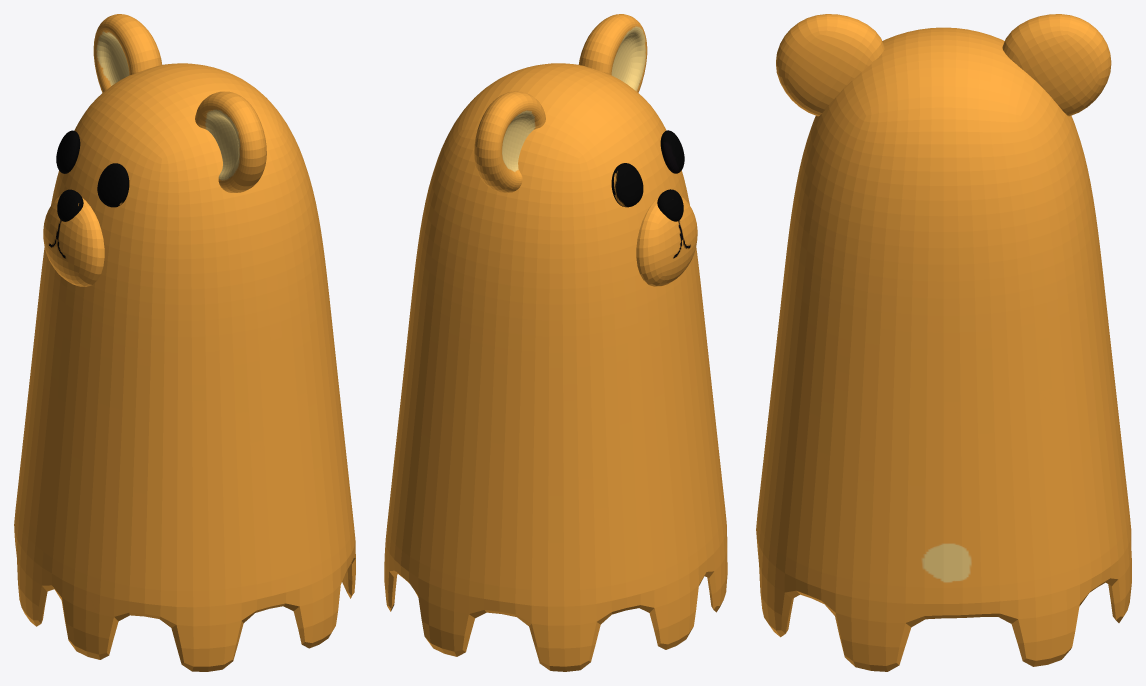
The model's file is GhostBear.glb.
3 views of the same model, side by side, from view 1: azimuth 30°, elevation 25°; view 2: azimuth 150°, elevation 25°; view 3: azimuth 270°, elevation 25° (orthographic). The views are drawn at different scales.
Visible parts, largest first — view 1: GhostBear.005, GhostBear.003, GhostBear.006, GhostBear.004, GhostBear.001, GhostBear.002, GhostBear; view 2: GhostBear.005, GhostBear.004, GhostBear.006, GhostBear.003, GhostBear.002, GhostBear.001, GhostBear; view 3: GhostBear.005, GhostBear.004, GhostBear.003.
Boxes of the visible parts, <box> form: GhostBear.005: <box>14,63,355,671</box>; GhostBear.003: <box>195,91,266,192</box>; GhostBear.006: <box>43,196,104,286</box>; GhostBear.004: <box>93,14,162,92</box>; GhostBear.001: <box>97,163,129,207</box>; GhostBear.002: <box>56,130,80,173</box>; GhostBear: <box>57,189,83,221</box>; GhostBear.005: <box>384,63,727,671</box>; GhostBear.004: <box>474,91,545,192</box>; GhostBear.006: <box>636,196,697,286</box>; GhostBear.003: <box>578,14,647,92</box>; GhostBear.002: <box>611,163,643,207</box>; GhostBear.001: <box>660,130,684,173</box>; GhostBear: <box>657,189,683,221</box>; GhostBear.005: <box>756,27,1131,671</box>; GhostBear.004: <box>1002,14,1111,116</box>; GhostBear.003: <box>776,14,884,116</box>.
Bounding box in the file's own units: 1.95 × 3.56 × 2.07.
Materials: 1 (1 with a texture image).
